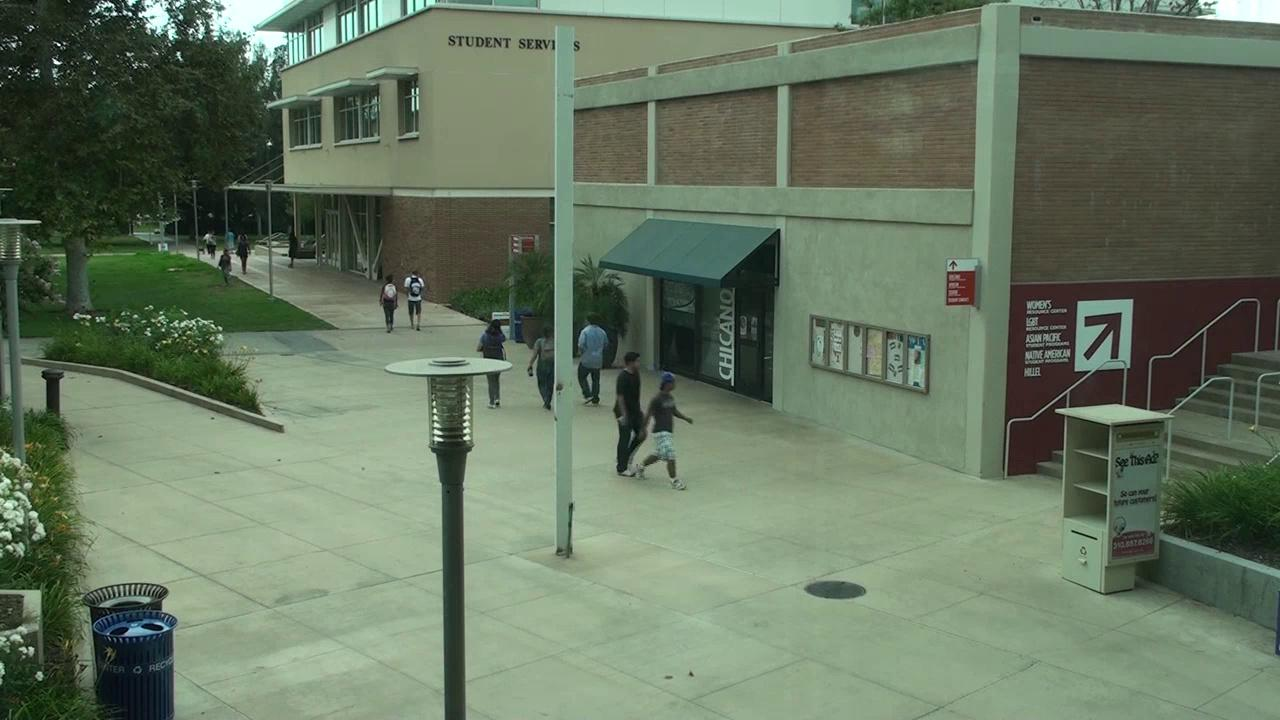person: (633, 373, 692, 488), (613, 353, 645, 475), (527, 327, 562, 409), (578, 314, 607, 404), (405, 270, 424, 330), (379, 275, 398, 332), (476, 321, 505, 358), (218, 249, 230, 285), (488, 375, 500, 408)
